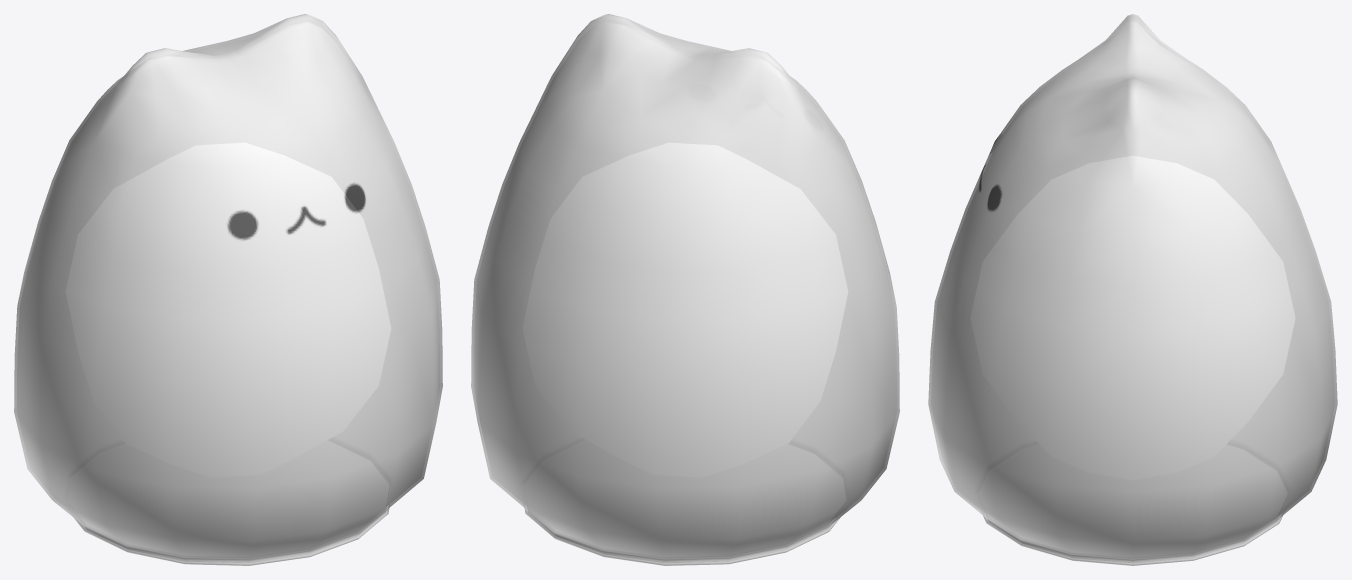
File: cat.glb
3 renders of one model, left to right at view 1: azimuth 30°, elevation 25°; view 2: azimuth 150°, elevation 25°; view 3: azimuth 270°, elevation 25°, orthographic. The views are drawn at different scales.
Visible parts, largest first — view 1: Lamp - calm cat; view 2: Lamp - calm cat; view 3: Lamp - calm cat.
Part boxes in pixels (<box>): Lamp - calm cat: <box>14,14,442,565</box>; Lamp - calm cat: <box>471,14,899,565</box>; Lamp - calm cat: <box>928,14,1337,565</box>.
Bounding box in the file's own units: 0.1297 × 0.1529 × 0.1268.
Materials: 2 (1 with a texture image).
